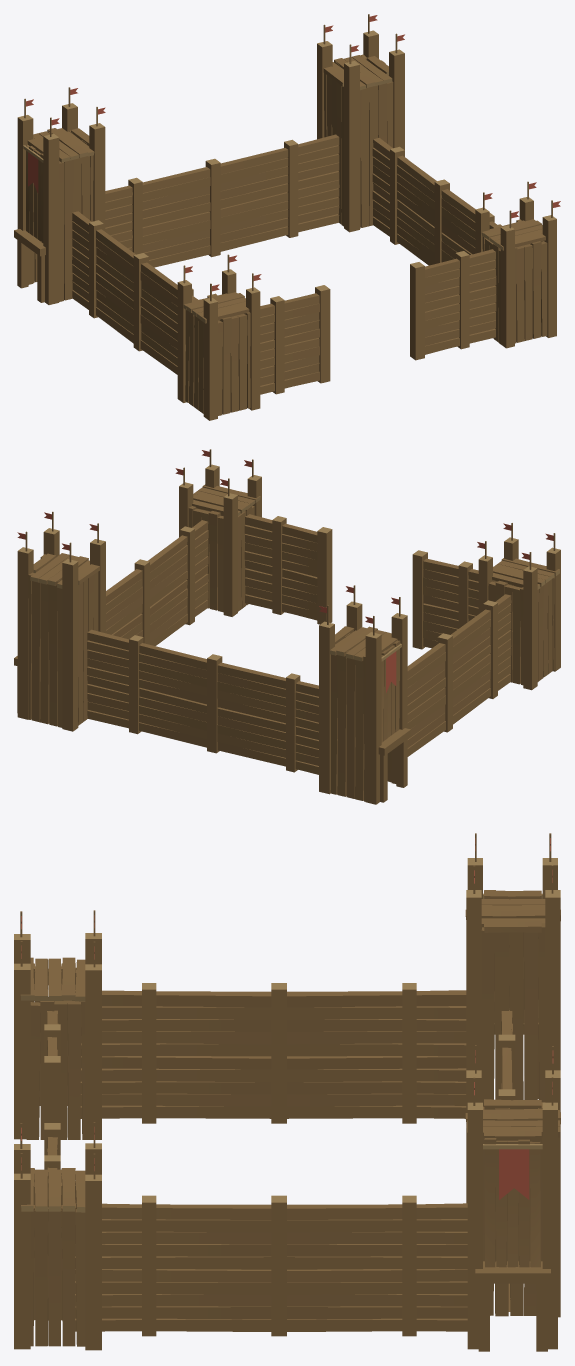
File: WonderWalls_FirstAge.glb
3 renders of one model, top to bottom at view 1: azimuth 30°, elevation 25°; view 2: azimuth 150°, elevation 25°; view 3: azimuth 270°, elevation 25°, orthographic. The views are drawn at different scales.
Visible parts, largest first — view 1: WonderWalls_FirstAge; view 2: WonderWalls_FirstAge; view 3: WonderWalls_FirstAge.
Boxes of the visible parts, x1,y1,x2,y2 form: WonderWalls_FirstAge: (14, 14, 560, 420); WonderWalls_FirstAge: (14, 449, 560, 804); WonderWalls_FirstAge: (14, 833, 560, 1351).
Size of the model in its own units: 2.2 by 1.07 by 1.95.
